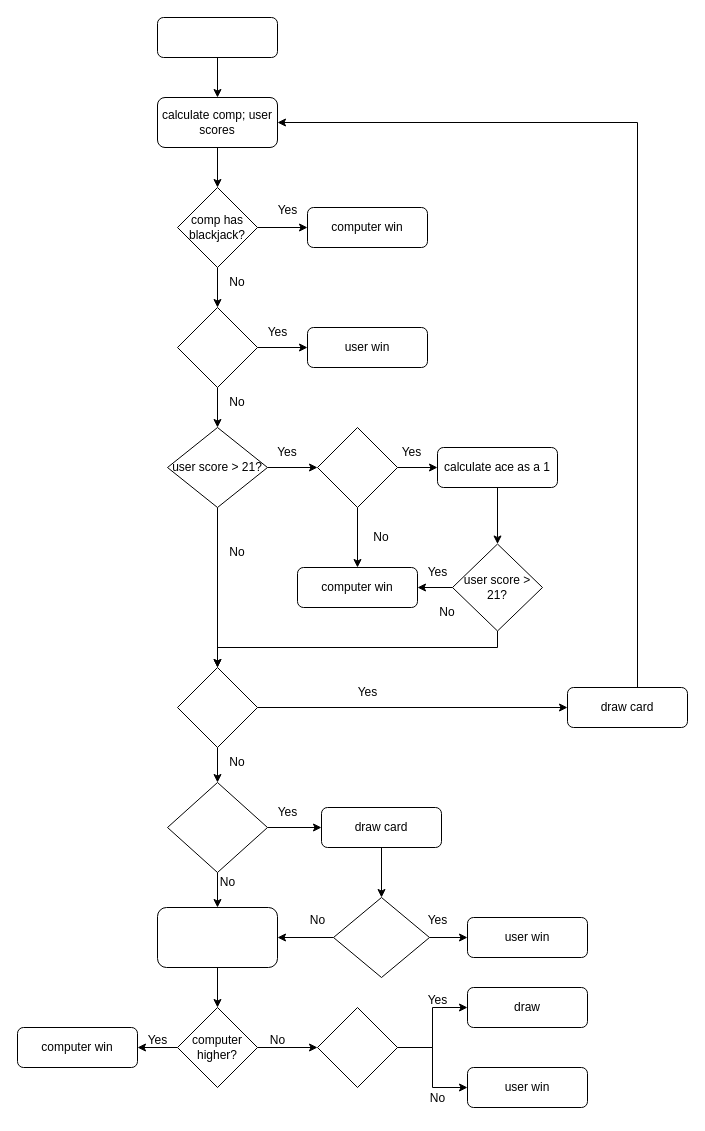
The diagram is 705 pixels wide and 1131 high, and some of its shapes have lost their labels. The shapes that lost their labels are listed below. From the top down, each one's centre as x and y in pixels, then its label:
At (x=217, y=37): "get comp; user 2 random cards".
At (x=217, y=347): "user has blackjack?".
At (x=357, y=467): "user has ace?".
At (x=217, y=707): "user wants another cards?".
At (x=217, y=827): "comp score < 17?".
At (x=217, y=937): "compare user score; computer score".
At (x=381, y=937): "comp score > 21?".
At (x=357, y=1047): "comp = user?".
